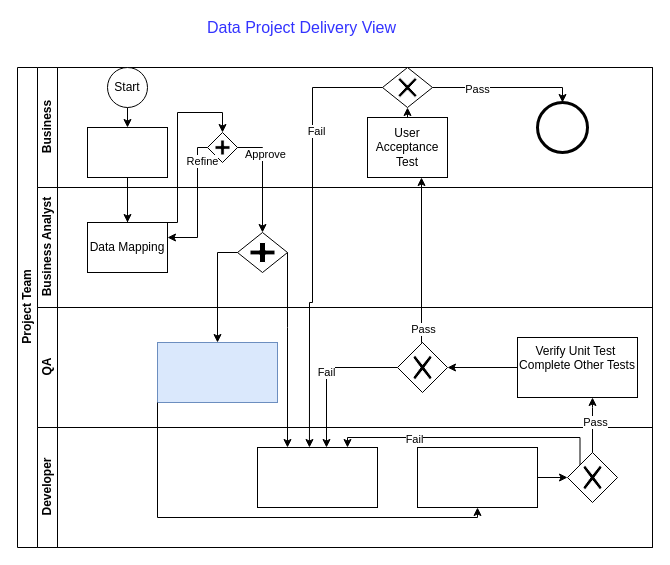
Some shapes in this 670 by 565 pixel diagram are drawn without their labels. Here are the shapes that lost their labels. From the top down, the centre of each, then its label:
At pixel 562 127: "Accept Product".
At pixel 127 152: "Business Requirements".
At pixel 217 372: "Prepare SQL Verification Script".
At pixel 317 477: "ETL Program".
At pixel 477 477: "Execute Data Verification".
